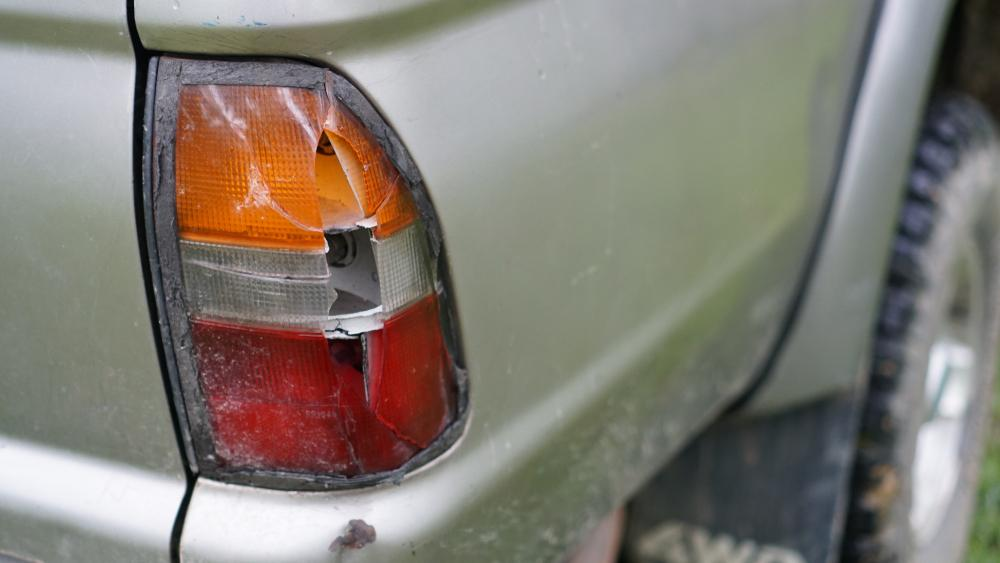lamp broken: (176, 85, 455, 478)
